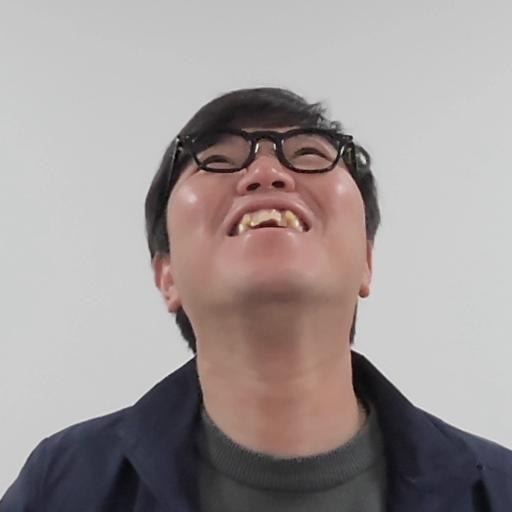no_glasses: (137, 79, 390, 362)
